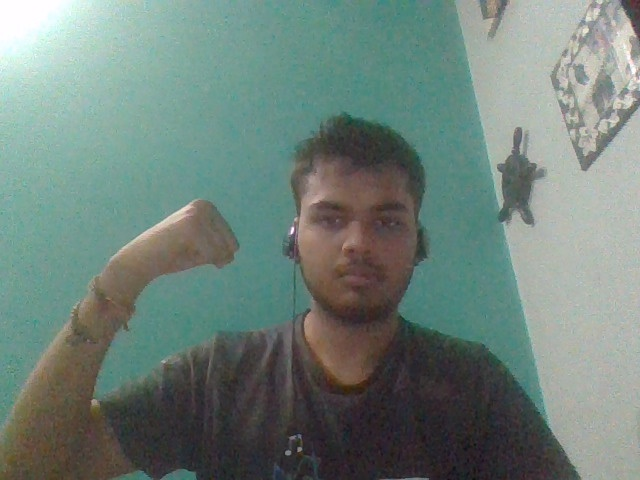goodbye: (105, 196, 242, 292)
